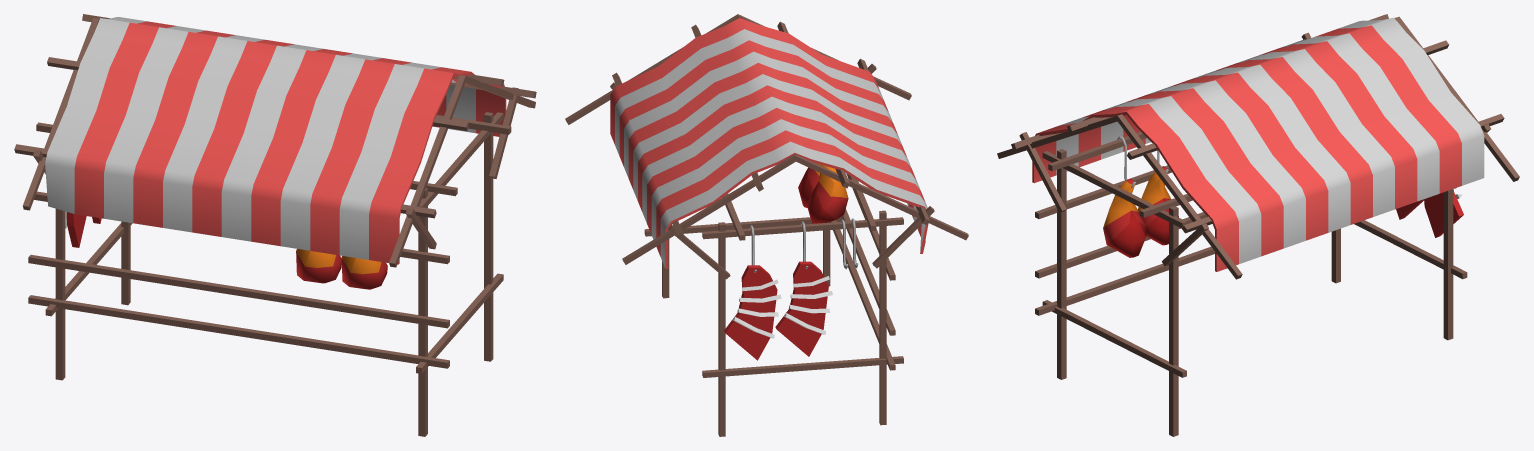
File: n4_stall_001_lev4.glb
3 views of the same model, side by side, from view 1: azimuth 30°, elevation 25°; view 2: azimuth 150°, elevation 25°; view 3: azimuth 270°, elevation 25° (orthographic). The views are drawn at different scales.
Visible parts, largest first — view 1: n4_stall_001_lev4; view 2: n4_stall_001_lev4; view 3: n4_stall_001_lev4.
Boxes of the visible parts, x1,y1,x2,y2 form: n4_stall_001_lev4: (14, 14, 536, 436); n4_stall_001_lev4: (565, 14, 968, 436); n4_stall_001_lev4: (997, 14, 1519, 436).
Bounding box in the file's own units: 7.67 × 4.77 × 7.65.
Materials: 1 (1 with a texture image).
